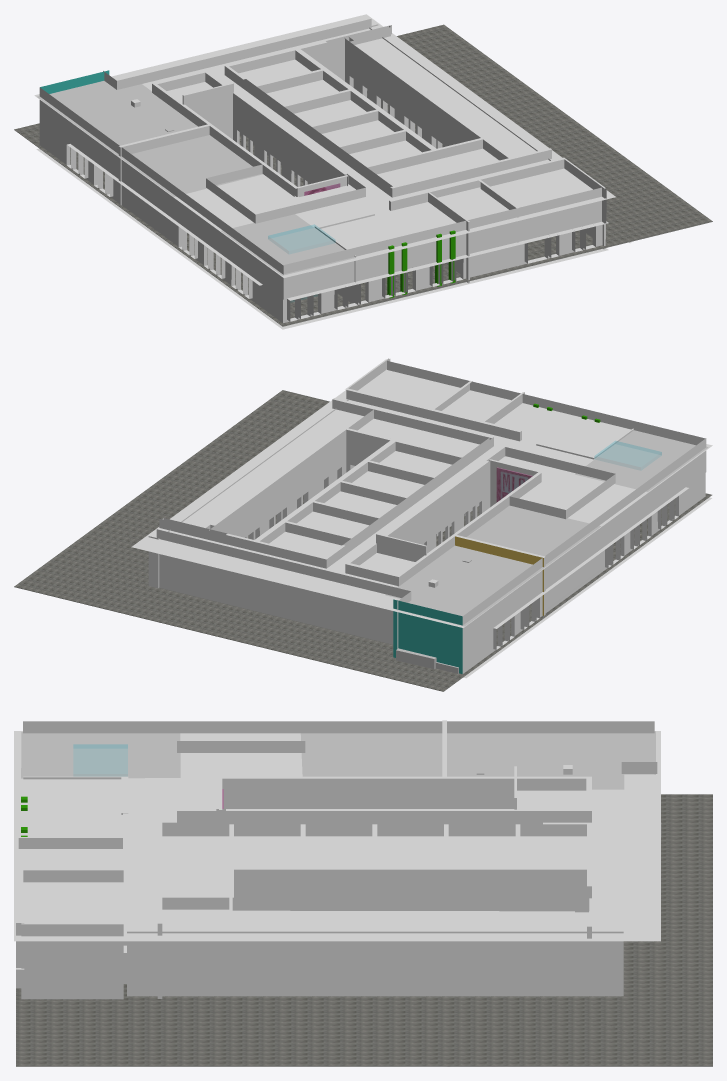
The model's file is PoloStructure2.fbx.
The picture shows the model from 3 angles, top to bottom: view 1: azimuth 30°, elevation 25°; view 2: azimuth 150°, elevation 25°; view 3: azimuth 270°, elevation 25°; orthographic projection. The views are drawn at different scales.
Parts seen in each view (by area): view 1: Structure, Floor, Ceiling1, Ceiling2; view 2: Structure, Floor, Ceiling1, Ceiling2, WoodStairs, MalagaJamPoster; view 3: Structure, Floor, Ceiling1, Ceiling2.
Part boxes in pixels (bbox=[...]): Structure: bbox=[34, 14, 631, 329]; Floor: bbox=[14, 24, 712, 326]; Ceiling1: bbox=[37, 81, 262, 196]; Ceiling2: bbox=[221, 214, 355, 275]; Structure: bbox=[131, 358, 712, 678]; Floor: bbox=[14, 390, 711, 691]; Ceiling1: bbox=[385, 505, 601, 626]; Ceiling2: bbox=[575, 430, 708, 491]; WoodStairs: bbox=[396, 648, 458, 673]; MalagaJamPoster: bbox=[496, 467, 532, 502]; Structure: bbox=[14, 720, 660, 999]; Floor: bbox=[16, 794, 712, 1066]; Ceiling1: bbox=[300, 731, 655, 789]; Ceiling2: bbox=[21, 732, 180, 778].
Bounding box in the file's own units: 8753 × 1418 × 9506.
